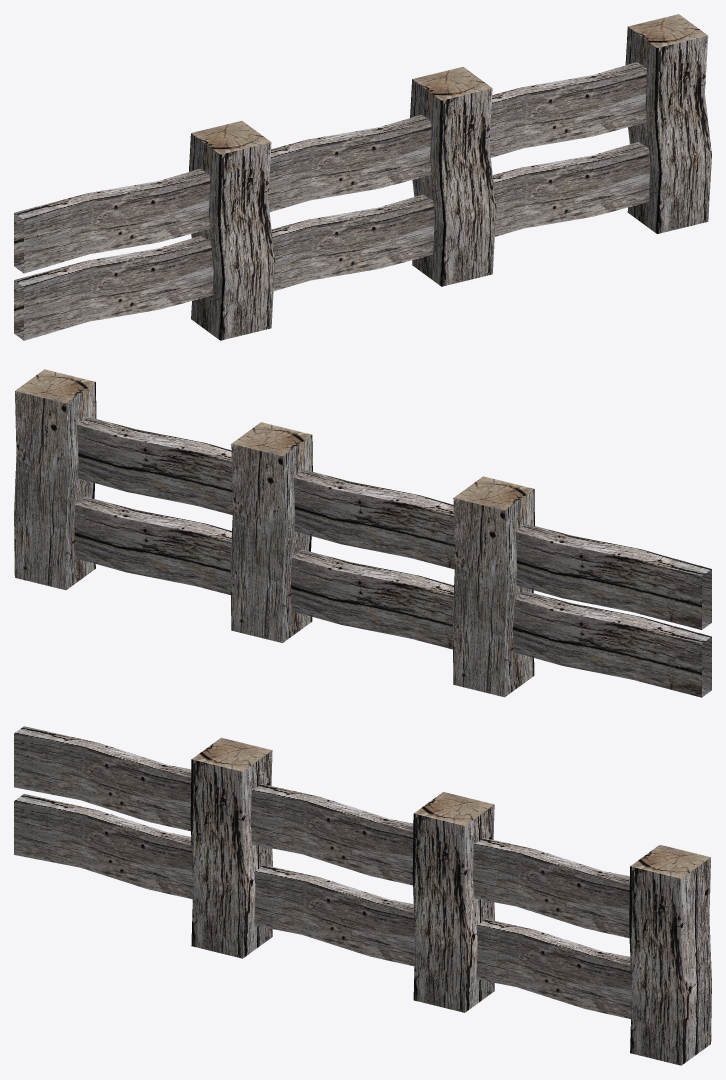
The model's file is fence04e.fbx.
3 views of the same model, one above another, from view 1: azimuth 30°, elevation 25°; view 2: azimuth 150°, elevation 25°; view 3: azimuth 330°, elevation 25° (orthographic).
Parts seen in each view (by area): view 1: Cube.008, Cube.001, Cube.003, Cube.009, Cube.010, Cube.004, Cube.002, Cube.012, Cube.011; view 2: Cube.008, Cube.001, Cube.003, Cube.009, Cube.010, Cube.002, Cube.004, Cube.011, Cube.012; view 3: Cube.003, Cube.001, Cube.008, Cube.009, Cube.010, Cube.004, Cube.002, Cube.012, Cube.011.
Boxes of the visible parts, left/top/right/bottom form: Cube.008: left=189, top=120, right=275, bottom=340; Cube.001: left=410, top=66, right=496, bottom=286; Cube.003: left=625, top=14, right=711, bottom=233; Cube.009: left=14, top=236, right=213, bottom=340; Cube.010: left=14, top=169, right=210, bottom=273; Cube.004: left=268, top=115, right=431, bottom=211; Cube.002: left=271, top=194, right=434, bottom=291; Cube.012: left=489, top=62, right=646, bottom=157; Cube.011: left=492, top=142, right=650, bottom=236; Cube.008: left=452, top=476, right=534, bottom=697; Cube.001: left=230, top=422, right=312, bottom=642; Cube.003: left=14, top=369, right=96, bottom=590; Cube.009: left=512, top=591, right=711, bottom=697; Cube.010: left=515, top=523, right=711, bottom=629; Cube.002: left=290, top=549, right=453, bottom=649; Cube.004: left=293, top=469, right=454, bottom=569; Cube.011: left=74, top=496, right=231, bottom=595; Cube.012: left=77, top=416, right=232, bottom=514; Cube.003: left=629, top=845, right=711, bottom=1065; Cube.001: left=412, top=792, right=494, bottom=1012; Cube.008: left=190, top=737, right=272, bottom=958; Cube.009: left=14, top=794, right=192, bottom=899; Cube.010: left=14, top=726, right=191, bottom=831; Cube.004: left=250, top=784, right=413, bottom=885; Cube.002: left=254, top=865, right=415, bottom=966; Cube.012: left=473, top=838, right=629, bottom=938; Cube.011: left=476, top=919, right=631, bottom=1018.
Bounding box in the file's own units: 548 × 144 × 45.85.
Materials: 1 (1 with a texture image).
